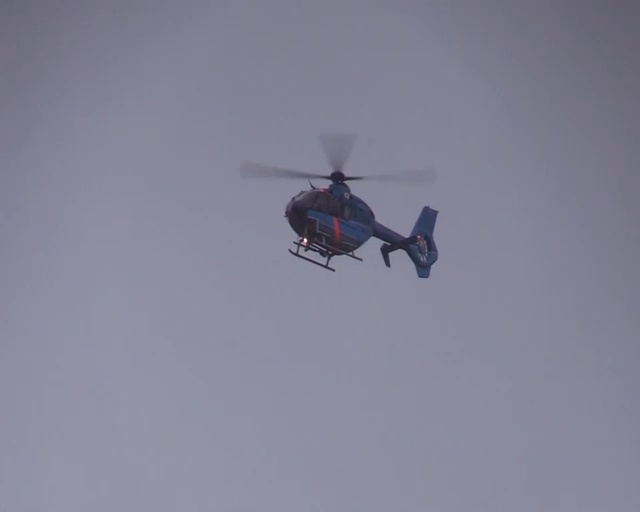HELICOPTER: (240, 130, 441, 275)
